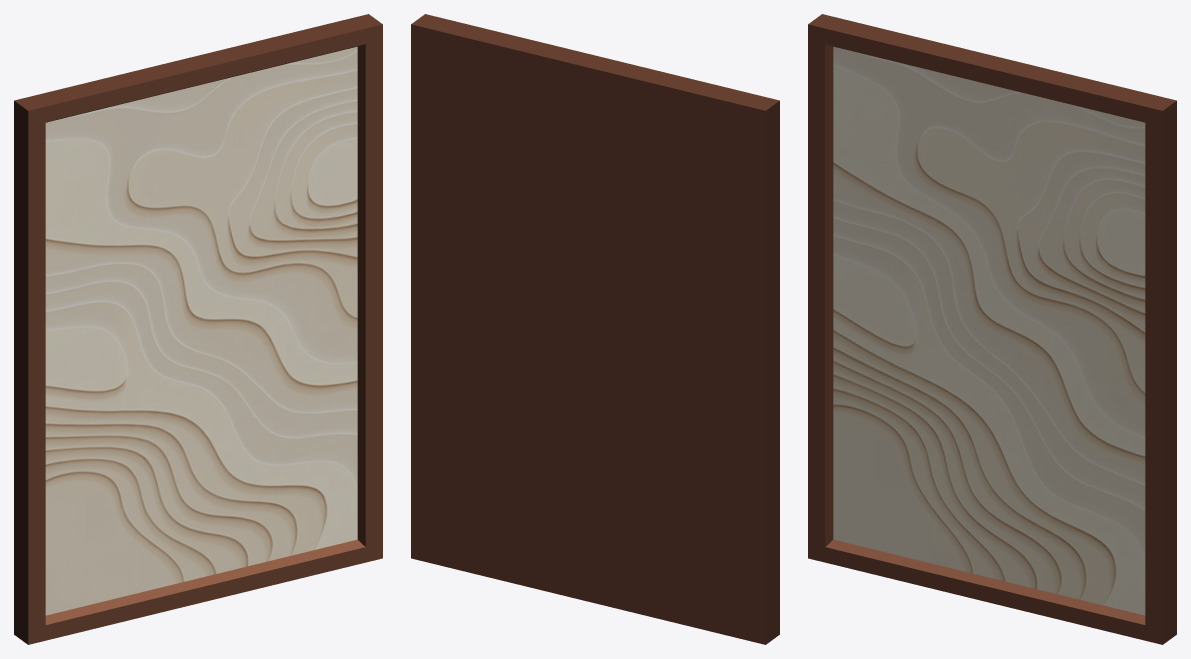
Rendered from SM_GameArea_DecorativePicture_05.fbx.
The picture shows the model from 3 angles, left to right: view 1: azimuth 30°, elevation 25°; view 2: azimuth 150°, elevation 25°; view 3: azimuth 330°, elevation 25°; orthographic projection.
Visible parts, largest first — view 1: SM_GameArea_DecorativePicture_05; view 2: SM_GameArea_DecorativePicture_05; view 3: SM_GameArea_DecorativePicture_05.
Boxes of the visible parts, x1,y1,x2,y2 form: SM_GameArea_DecorativePicture_05: (14,14,382,644); SM_GameArea_DecorativePicture_05: (411,14,779,644); SM_GameArea_DecorativePicture_05: (808,14,1176,644).
Bounding box in the file's own units: 3.47 × 5 × 0.2404.
Materials: 2 (2 with a texture image).
